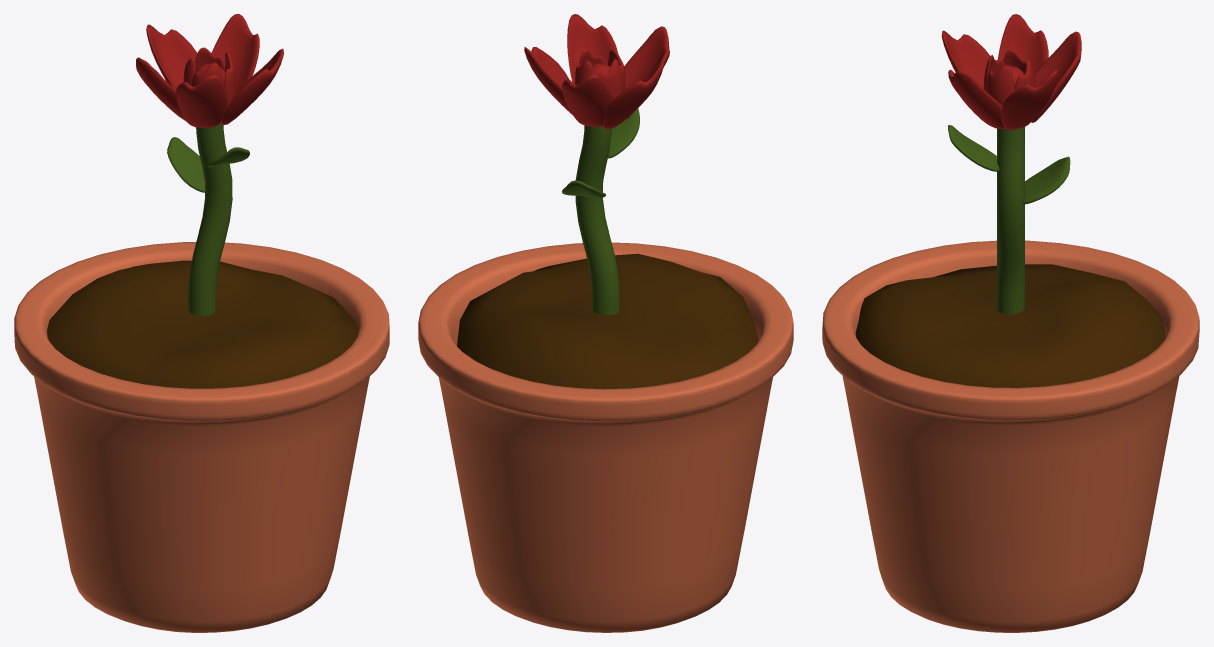
Rendered from flor_roja.fbx.
3 views of the same model, side by side, from view 1: azimuth 30°, elevation 25°; view 2: azimuth 150°, elevation 25°; view 3: azimuth 270°, elevation 25° (orthographic).
Visible parts, largest first — view 1: flor_roja; view 2: flor_roja; view 3: flor_roja.
Part boxes in pixels (x1,y1,x2,y2): flor_roja: (14, 14, 389, 632); flor_roja: (418, 14, 793, 632); flor_roja: (822, 14, 1199, 632).
Bounding box in the file's own units: 56.43 × 89.15 × 56.43.
